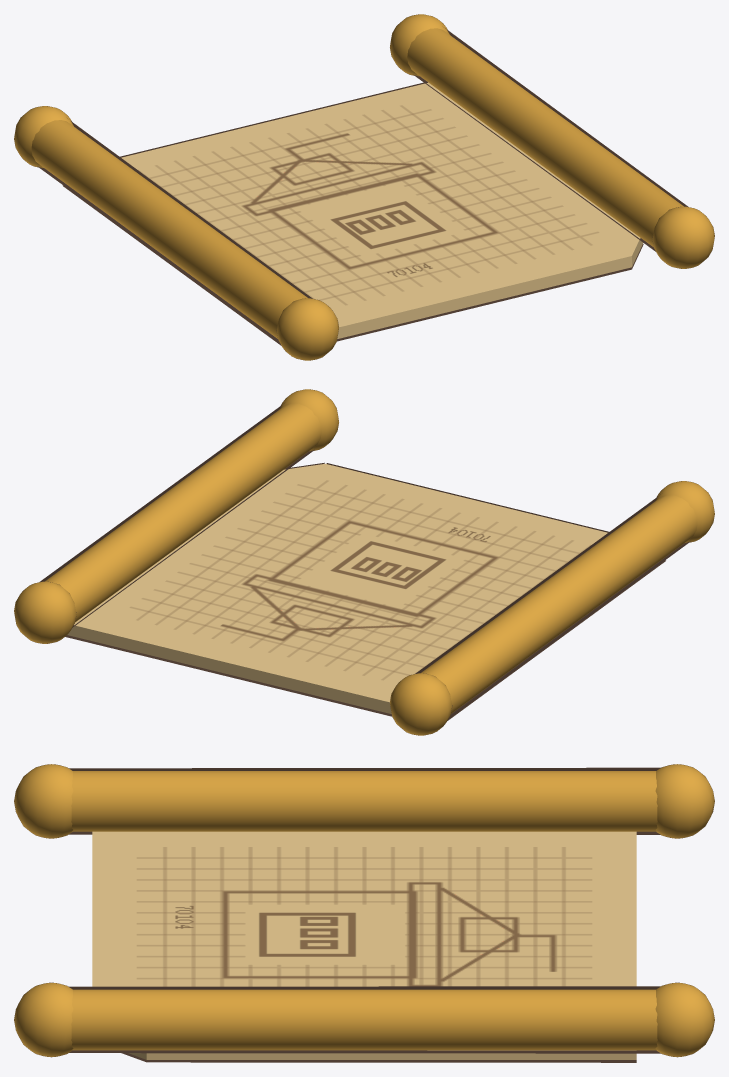
File: prop_70104.glb
3 views of the same model, one above another, from view 1: azimuth 30°, elevation 25°; view 2: azimuth 150°, elevation 25°; view 3: azimuth 270°, elevation 25° (orthographic). The views are drawn at different scales.
Visible parts, largest first — view 1: prop_70104; view 2: prop_70104; view 3: prop_70104.
Part boxes in pixels (bbox=[...]): prop_70104: bbox=[14, 14, 714, 360]; prop_70104: bbox=[14, 389, 714, 735]; prop_70104: bbox=[14, 764, 714, 1062].
Bounding box in the file's own units: 0.7011 × 0.1006 × 0.83.
Materials: 4 (1 with a texture image).
